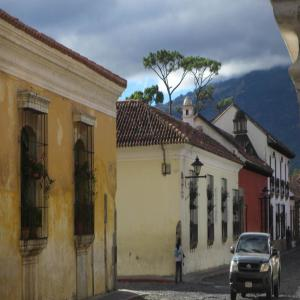Vehicle-registration-plate: (246, 283, 253, 290)
